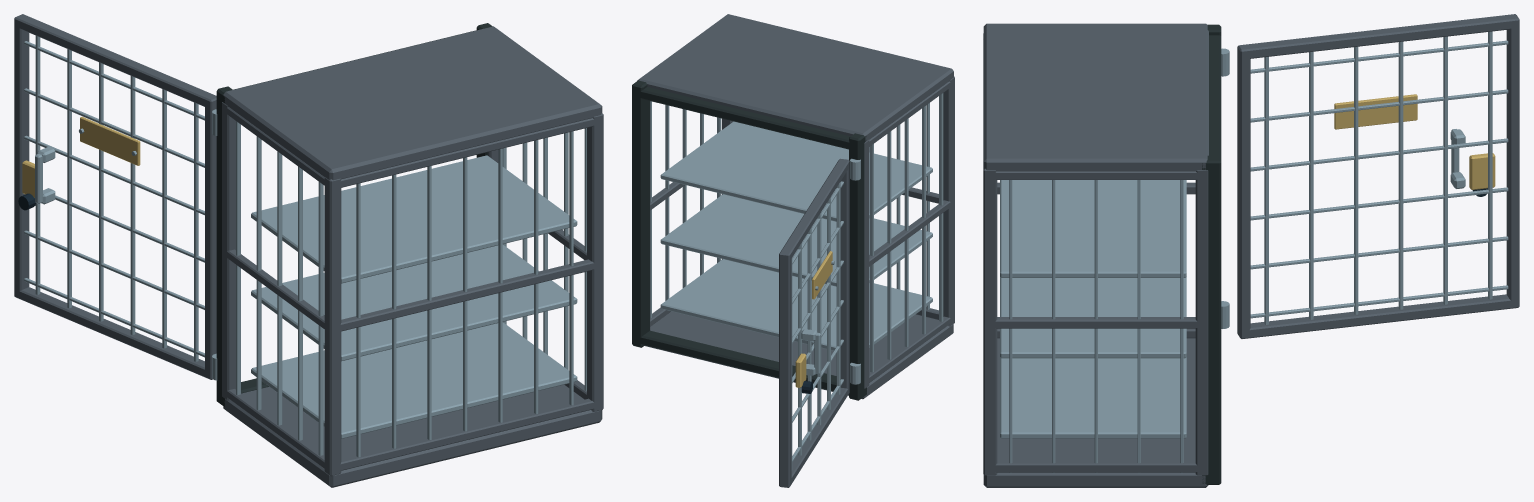
Rendered from harbor_cargo_cage_opened.glb.
The picture shows the model from 3 angles, left to right: view 1: azimuth 30°, elevation 25°; view 2: azimuth 150°, elevation 25°; view 3: azimuth 270°, elevation 25°; orthographic projection. The views are drawn at different scales.
Visible parts, largest first — view 1: interior_shelf (×3), body_roof, body_cage_post (×3), moving_door_grille (×12), body_floor, body_side_grid (×8), body_back_grid (×7), body_back_rail (×3), moving_door_upright (×2), moving_door_rail (×2), body_side_rail (×3), front_side_frame (+1 smaller); view 2: interior_shelf (×3), body_roof, front_side_frame (×2), body_side_grid (×8), body_floor, front_cross_frame (×2), moving_door_upright (×2), moving_door_grille (×6), body_cage_post (×2), body_side_rail (×4), moving_door_rail (×2), body_back_grid (×2) (+2 smaller); view 3: interior_shelf (×3), body_roof, moving_door_grille (×12), body_floor, body_cage_post (×2), moving_door_rail (×2), moving_door_upright (×2), body_side_rail (×3), body_side_grid (×5), front_side_frame, moving_cargo_id_plate, front_cross_frame (+1 smaller).
Boxes of the visible parts, x1,y1,x2,y2 form: interior_shelf (×3): [251, 155, 577, 438]; body_roof: [223, 26, 602, 180]; body_cage_post (×3): [222, 102, 603, 476]; moving_door_grille (×12): [24, 36, 204, 361]; body_floor: [223, 385, 602, 487]; body_side_grid (×8): [236, 121, 586, 455]; body_back_grid (×7): [356, 131, 573, 466]; body_back_rail (×3): [332, 118, 602, 471]; moving_door_upright (×2): [14, 14, 216, 379]; moving_door_rail (×2): [14, 14, 215, 379]; body_side_rail (×3): [222, 104, 329, 471]; front_side_frame: [216, 86, 232, 406]; interior_shelf (×3): [660, 121, 932, 350]; body_roof: [637, 14, 953, 141]; front_side_frame (×2): [632, 80, 866, 400]; body_side_grid (×8): [650, 93, 943, 372]; body_floor: [644, 311, 953, 399]; front_cross_frame (×2): [632, 87, 866, 396]; moving_door_upright (×2): [779, 158, 849, 487]; moving_door_grille (×6): [791, 182, 840, 470]; body_cage_post (×2): [864, 76, 954, 388]; body_side_rail (×4): [650, 79, 954, 384]; moving_door_rail (×2): [779, 159, 848, 487]; body_back_grid (×2): [896, 103, 929, 309]; interior_shelf (×3): [1000, 180, 1186, 438]; body_roof: [983, 23, 1208, 171]; moving_door_grille (×12): [1250, 31, 1508, 324]; body_floor: [983, 338, 1208, 487]; body_cage_post (×2): [983, 166, 1208, 475]; moving_door_rail (×2): [1237, 14, 1519, 338]; moving_door_upright (×2): [1237, 14, 1519, 338]; body_side_rail (×3): [985, 171, 1207, 472]; body_side_grid (×5): [1009, 180, 1183, 473]; front_side_frame: [1202, 155, 1221, 484]; moving_cargo_id_plate: [1334, 94, 1417, 129]; front_cross_frame: [1202, 35, 1221, 175].
Bounding box in the file's own units: 1.91 × 1.75 × 2.5.
